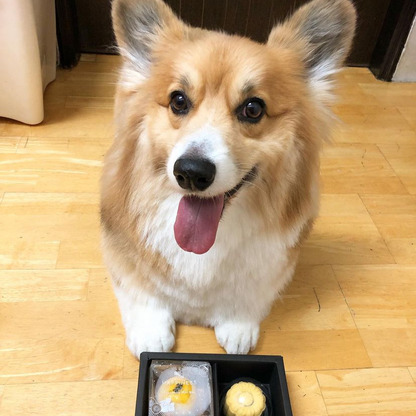Corgi: (90, 11, 354, 348)
